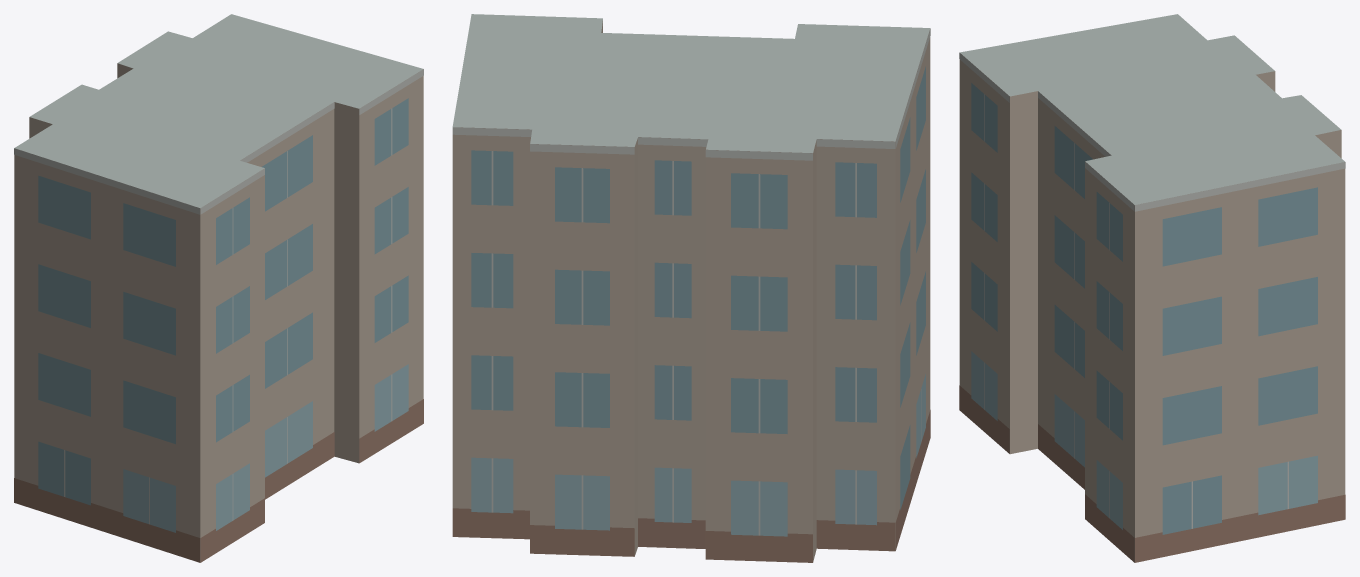
File: survey-upis-32750891.glb
3 views of the same model, side by side, from view 1: azimuth 30°, elevation 25°; view 2: azimuth 150°, elevation 25°; view 3: azimuth 270°, elevation 25° (orthographic). The views are drawn at different scales.
Visible parts, largest first — view 1: survey-upis-32750891.tmp; view 2: survey-upis-32750891.tmp; view 3: survey-upis-32750891.tmp.
Boxes of the visible parts, <box> form: survey-upis-32750891.tmp: <box>14,14,423,562</box>; survey-upis-32750891.tmp: <box>452,14,930,562</box>; survey-upis-32750891.tmp: <box>959,14,1345,562</box>.
Bounding box in the file's own units: 15.02 × 13.1 × 12.82.
